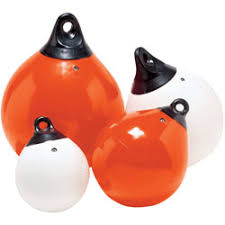buoy: (3, 52, 124, 174), (92, 107, 189, 206)
